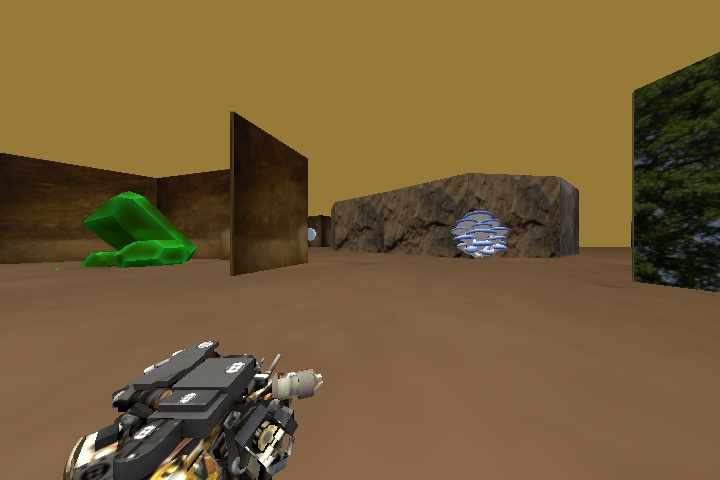gem: (78, 189, 197, 269)
mushroom: (450, 210, 510, 259)
sphere: (306, 226, 318, 242)
